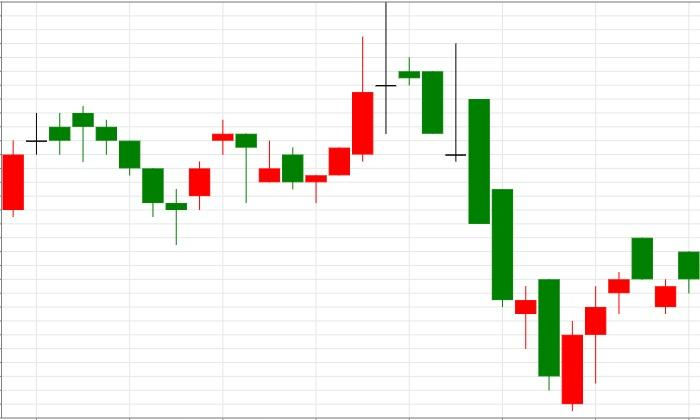morning_star_rise: (72, 106, 210, 244)
three_white_soldiers_rise: (212, 36, 373, 203)
